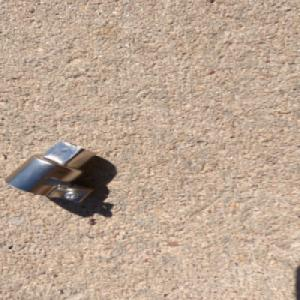MetalPart: (4, 140, 98, 203)
